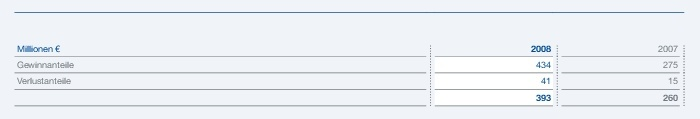table: (0, 0, 700, 119)
